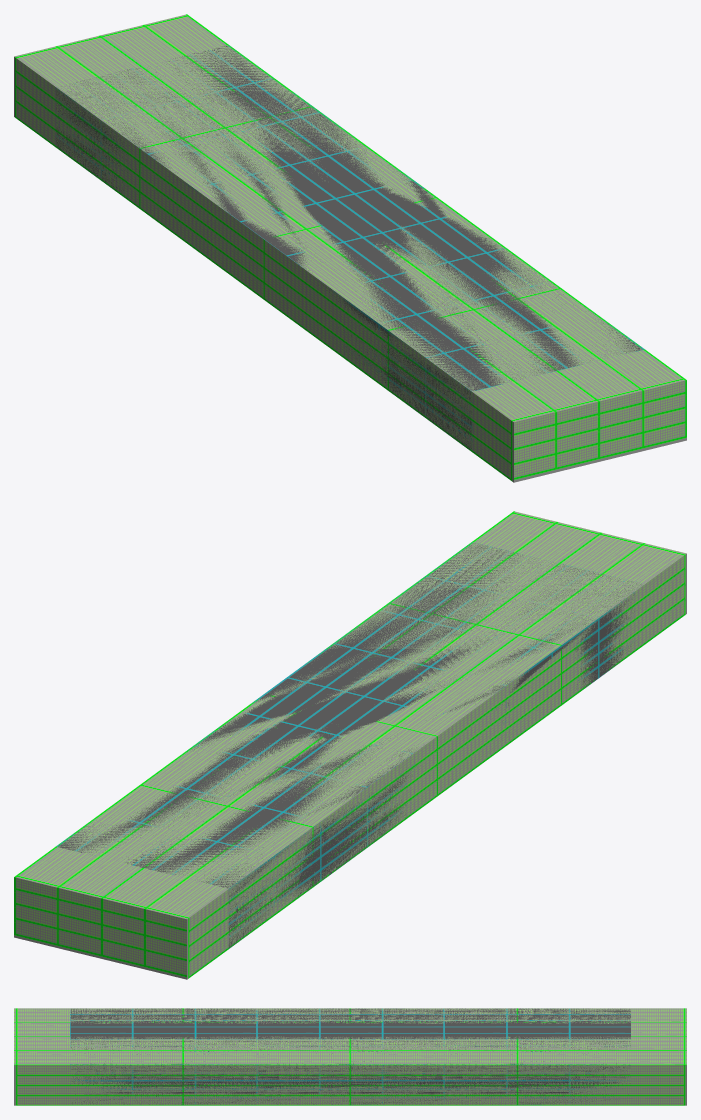
The model's file is MayaB1.fbx.
3 views of the same model, one above another, from view 1: azimuth 30°, elevation 25°; view 2: azimuth 150°, elevation 25°; view 3: azimuth 270°, elevation 25° (orthographic). The views are drawn at different scales.
Parts seen in each view (by area): view 1: Maya_B1, Maya_B2; view 2: Maya_B1, Maya_B2; view 3: Maya_B1, Maya_B2.
Part boxes in pixels (box(x1,y1,x2,y2)): Maya_B1: box(14, 14, 686, 482); Maya_B2: box(55, 45, 644, 450); Maya_B1: box(14, 511, 686, 979); Maya_B2: box(56, 542, 641, 948); Maya_B1: box(14, 1008, 686, 1105); Maya_B2: box(70, 1008, 630, 1105).
Bounding box in the file's own units: 60 × 20 × 300.
Materials: 3 (3 with a texture image).
